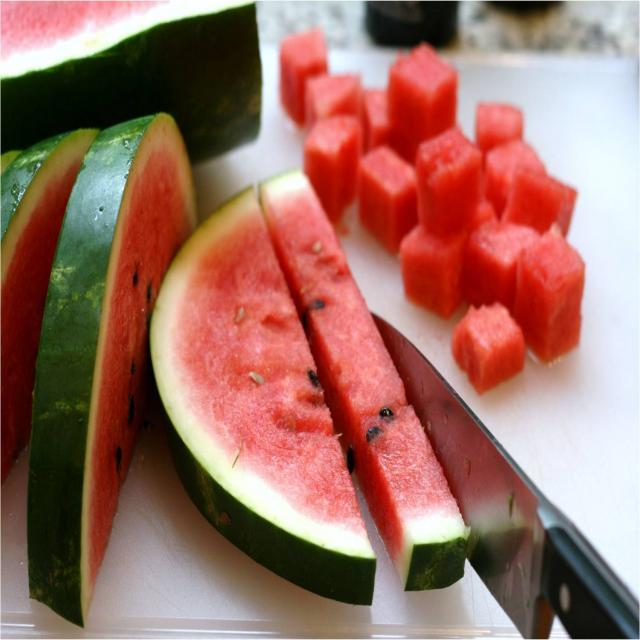APPLE: (157, 161, 377, 625), (267, 165, 473, 593), (38, 97, 154, 625), (0, 128, 67, 516)
